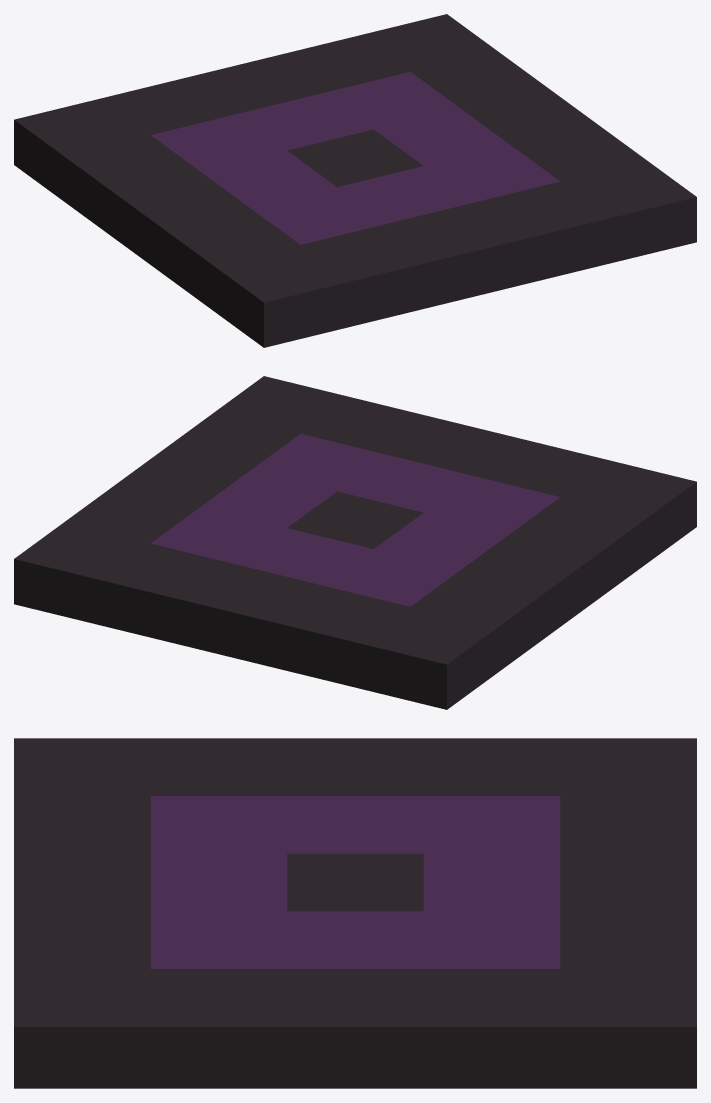
The model's file is Ground.fbx.
3 renders of one model, top to bottom at view 1: azimuth 30°, elevation 25°; view 2: azimuth 150°, elevation 25°; view 3: azimuth 270°, elevation 25°, orthographic. The views are drawn at different scales.
Parts seen in each view (by area): view 1: Ground; view 2: Ground; view 3: Ground.
Boxes of the visible parts, x1,y1,x2,y2 form: Ground: (14, 14, 696, 347); Ground: (14, 376, 696, 709); Ground: (14, 738, 696, 1088).
Bounding box in the file's own units: 2000 × 200 × 2000.
